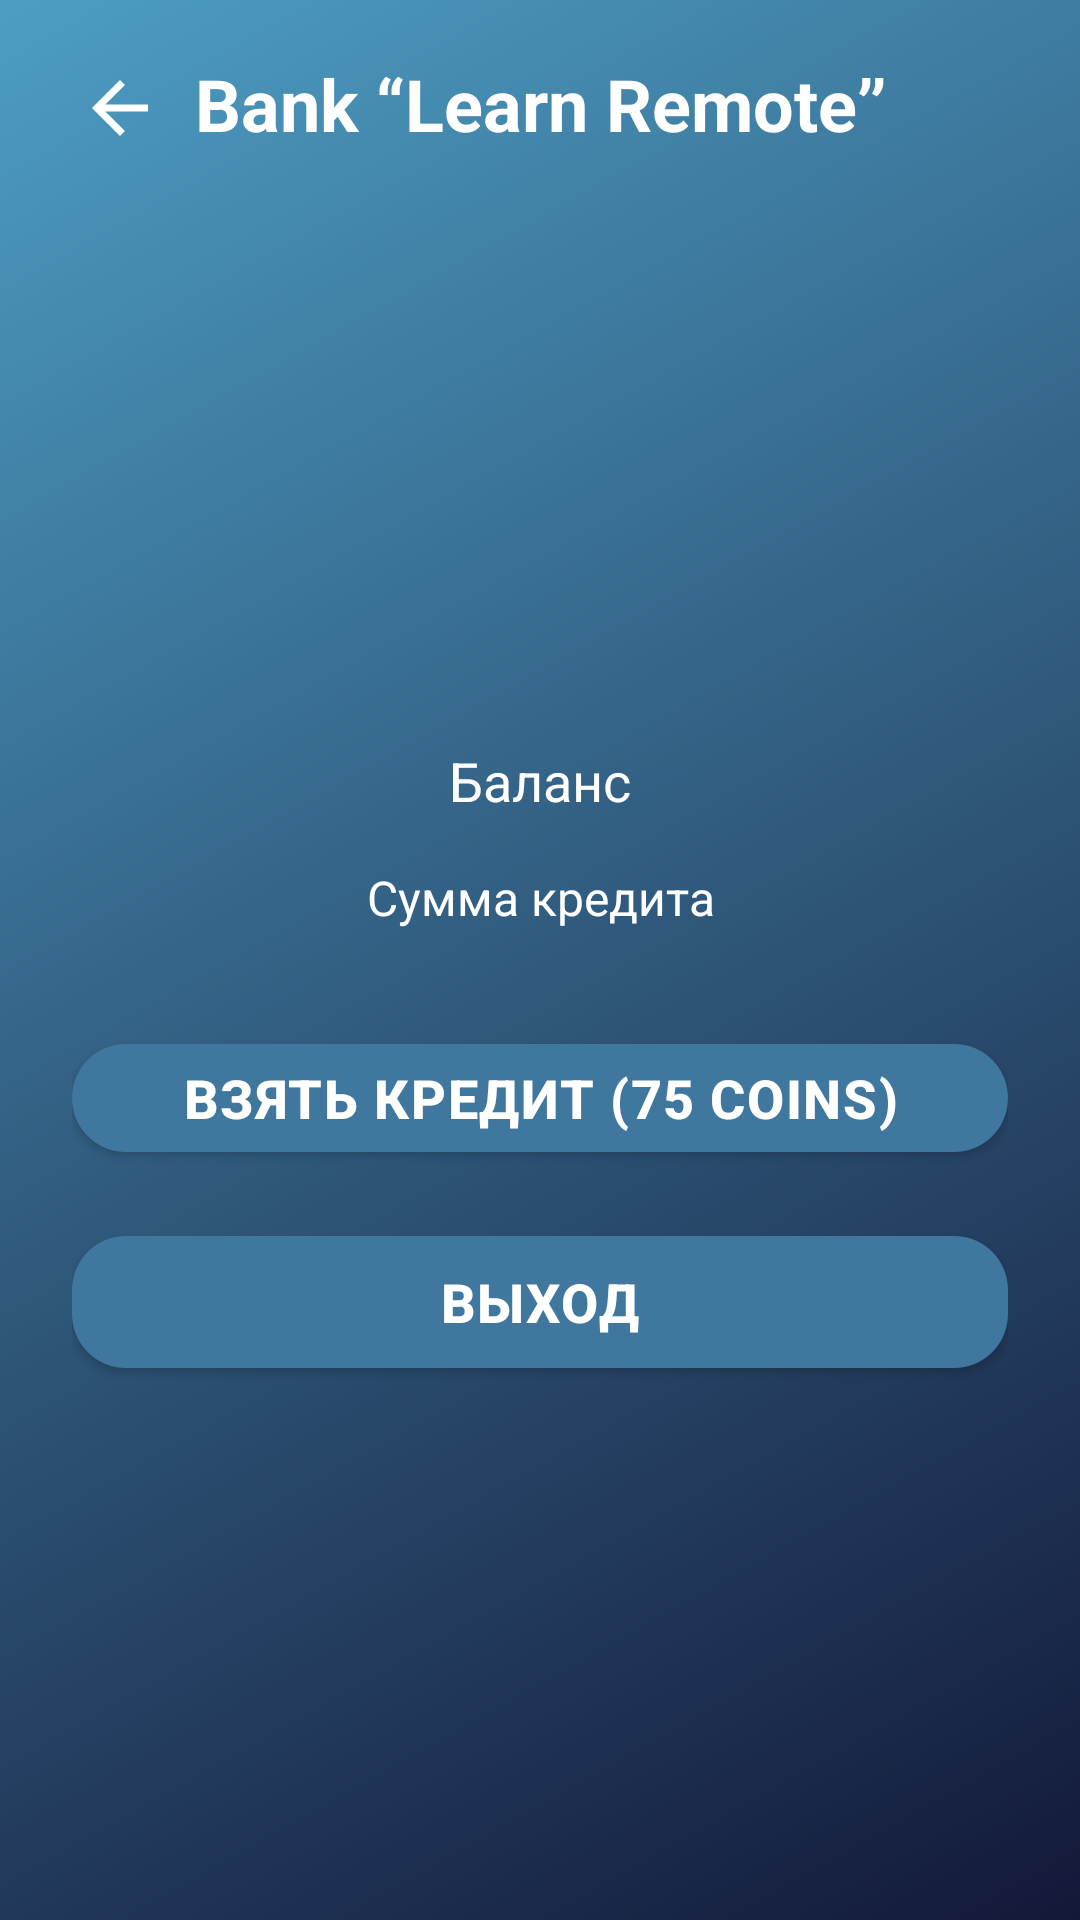

Where to tap for icons on this 1080px×1920px app screen, as (x,y):
Назад: (120,108)
